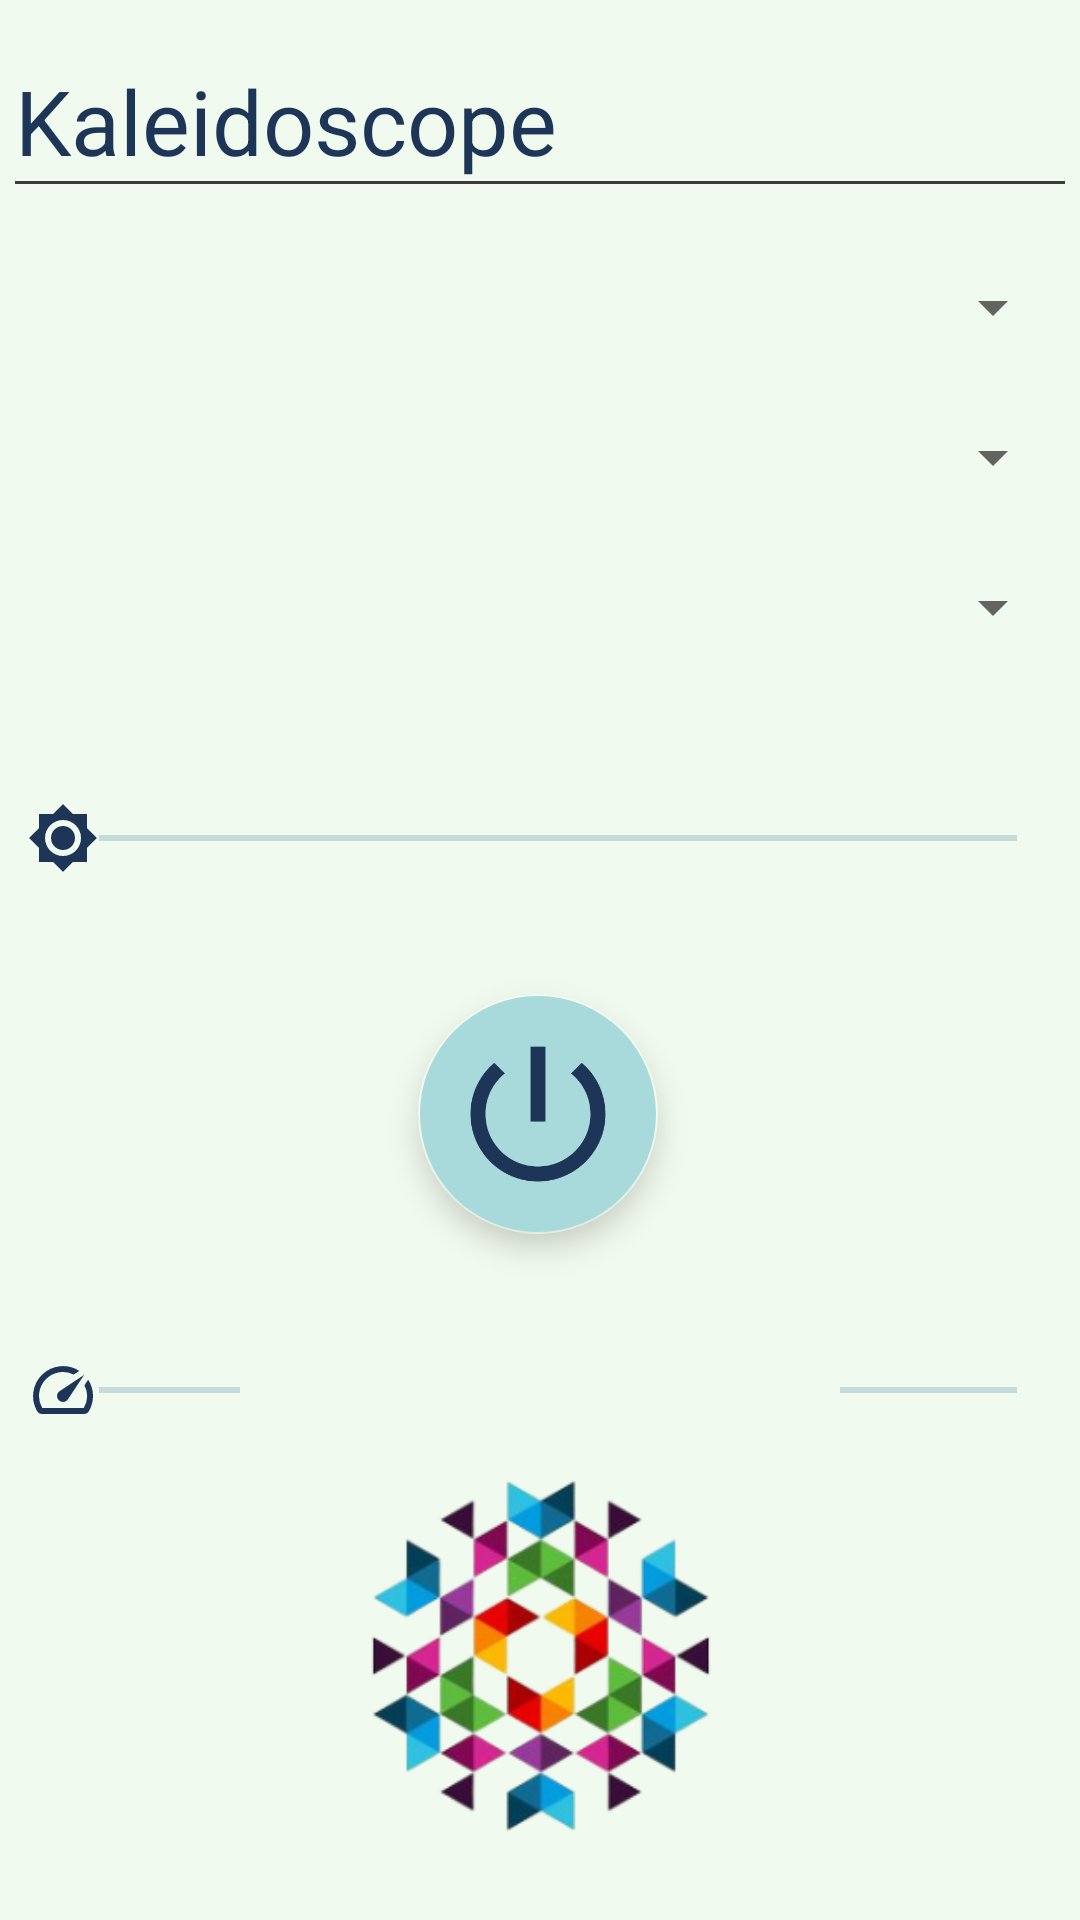

Named icons in this screenshot (1080×1920) and their bounding boxes, (x1, y1, x2, y2):
power button: (420, 996, 656, 1232)
